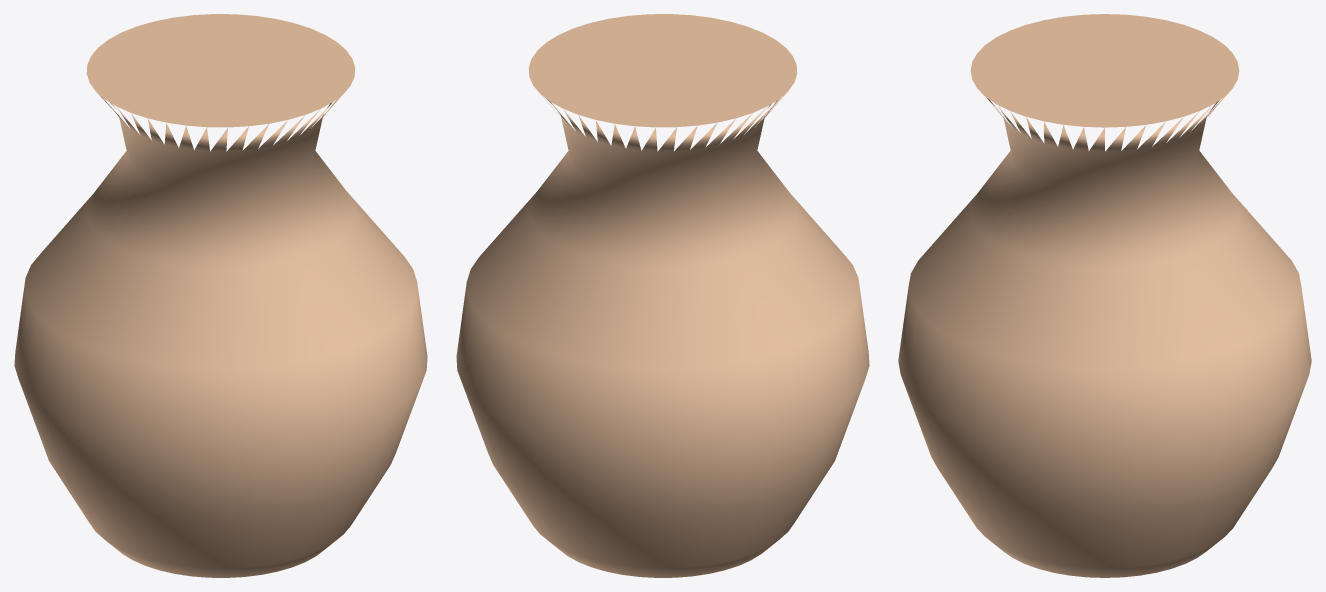
Rendered from vase.gltf.
3 renders of one model, left to right at view 1: azimuth 30°, elevation 25°; view 2: azimuth 150°, elevation 25°; view 3: azimuth 270°, elevation 25°, orthographic.
Visible parts, largest first — view 1: vase; view 2: vase; view 3: vase.
Part boxes in pixels (box(x1,y1,x2,y2)): vase: box(14, 14, 427, 577); vase: box(456, 14, 869, 577); vase: box(898, 14, 1311, 577).
Bounding box in the file's own units: 0.8 × 0.98 × 0.8.
